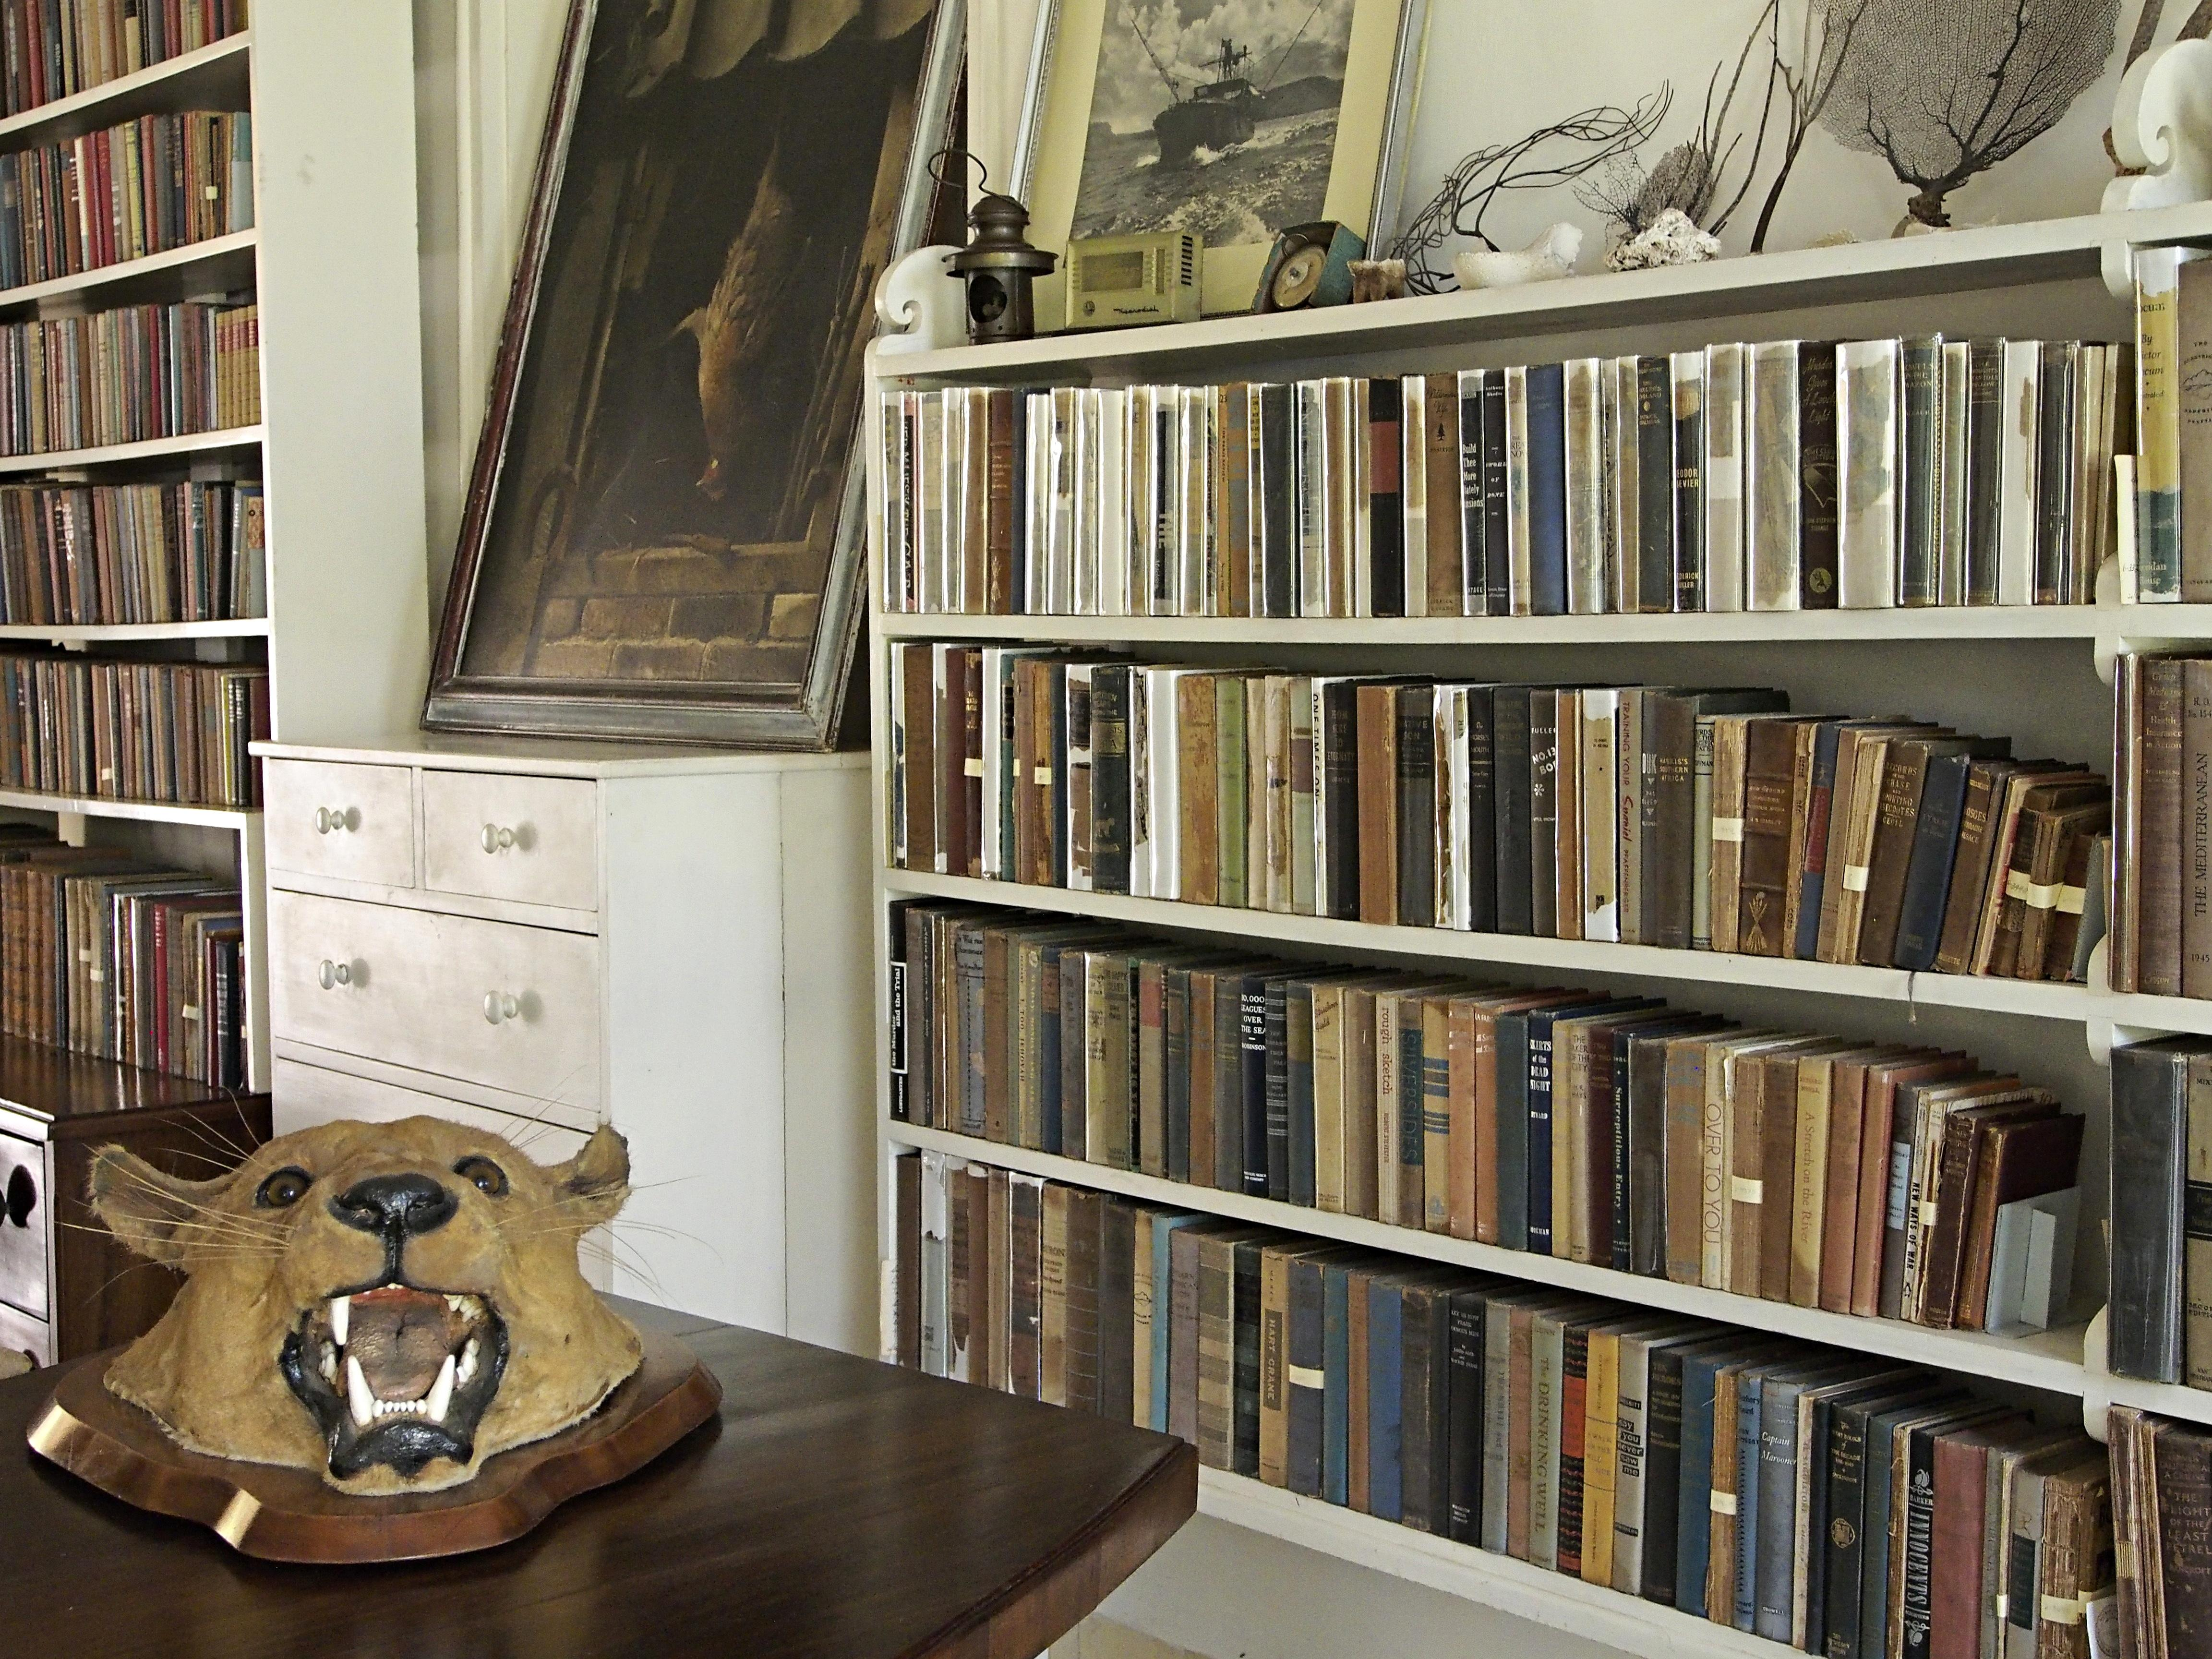Rak: (862, 206, 2212, 1659), (0, 0, 275, 1093)
